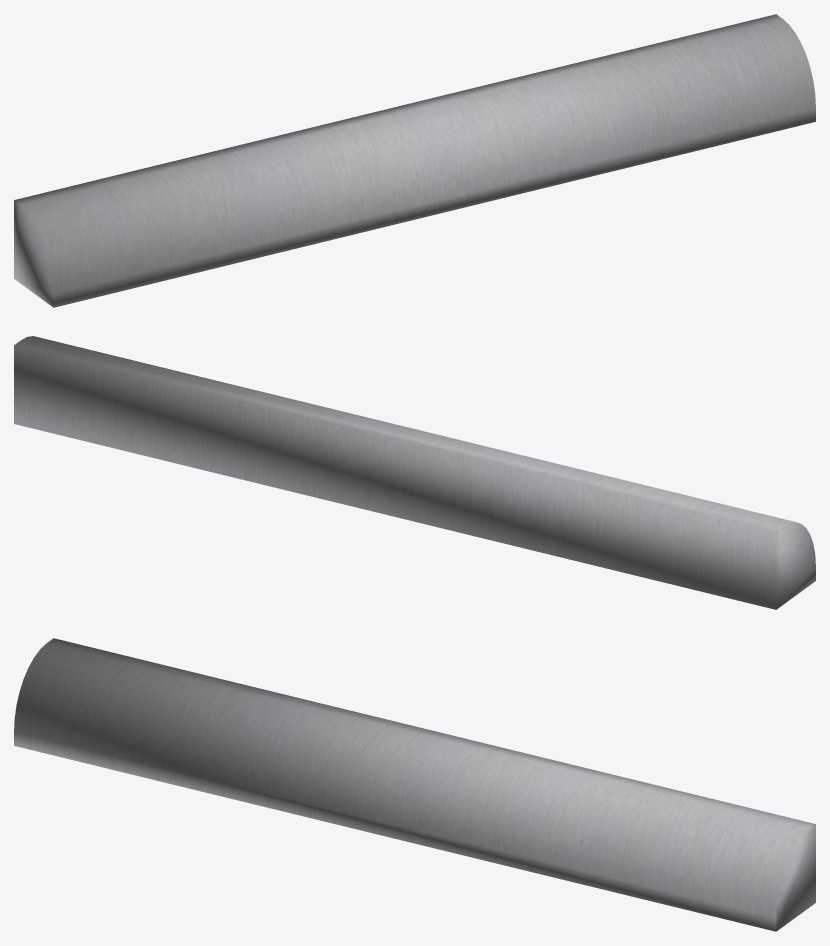
The model's file is light.glb.
3 views of the same model, one above another, from view 1: azimuth 30°, elevation 25°; view 2: azimuth 150°, elevation 25°; view 3: azimuth 330°, elevation 25° (orthographic).
Parts seen in each view (by area): view 1: Cube; view 2: Cube; view 3: Cube.
Boxes of the visible parts, box(x1,y1,x2,y2) form: Cube: box(14, 14, 815, 307); Cube: box(14, 336, 815, 609); Cube: box(14, 638, 815, 931).
Bounding box in the file's own units: 2 × 0.1971 × 0.1804.
1 material, 1 textured.
